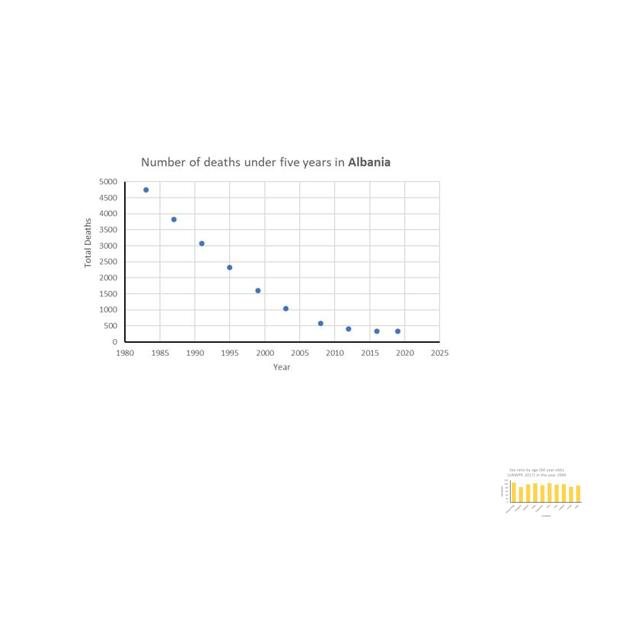Graph: (74, 147, 458, 383), (499, 466, 583, 519)
